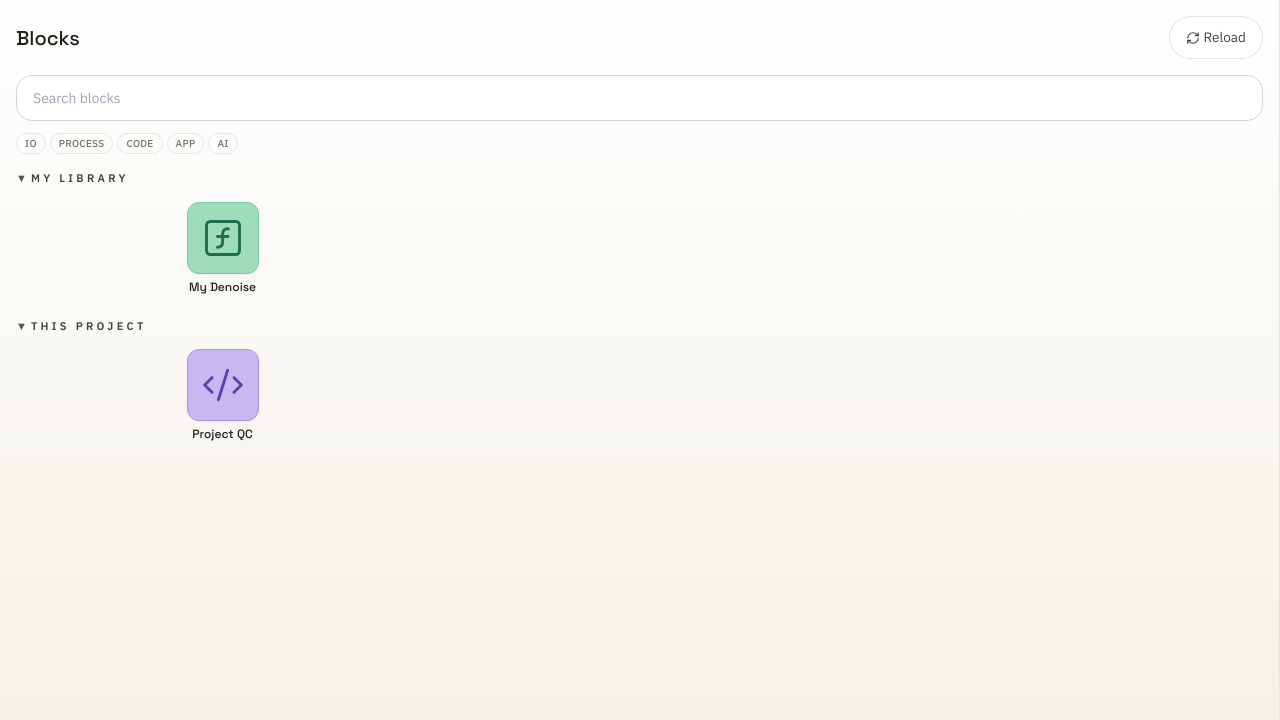
BlockPalette — origin tiers and empty states (#1995) › filters the tier sections by category chip exactly like any other section
Click the button "Code" at (140, 144), box [118,133,163,154]
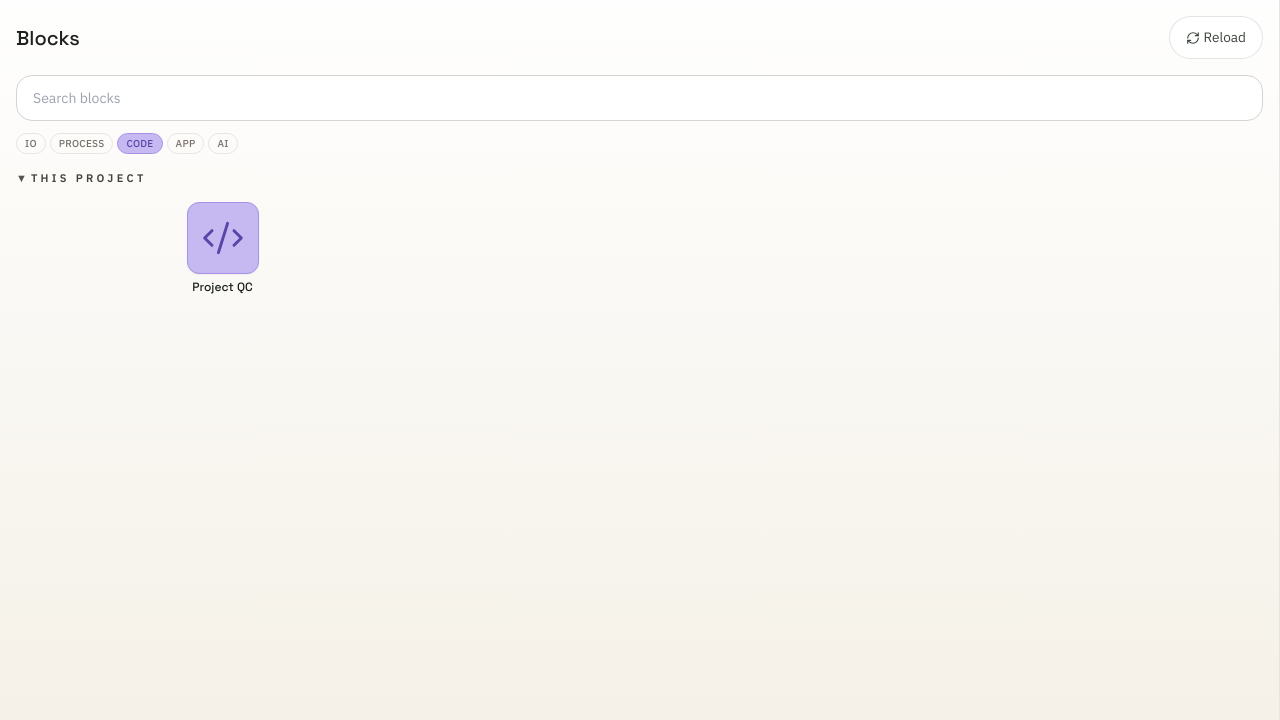
Check: the text "Project QC" is shown, box [192,280,253,295]
Check: the button "My Denoise" is gone
